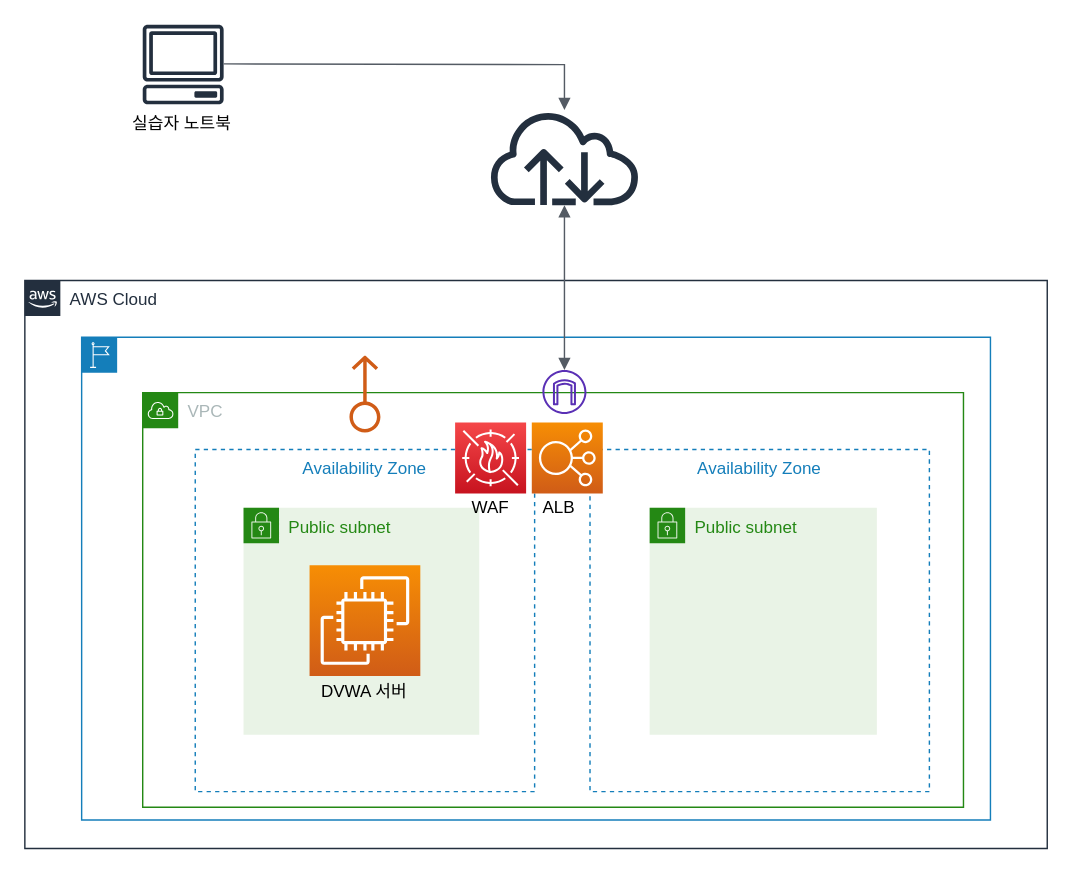
Image size: 1072x873. Some labels were removed from this diagram. The shapes that lost their labels are listed below. From the top down, each one's box as (x1, y1, x2, y2) in pixels, then its label:
(348, 355, 381, 432): EIP
(80, 336, 990, 820): 서울 Region
